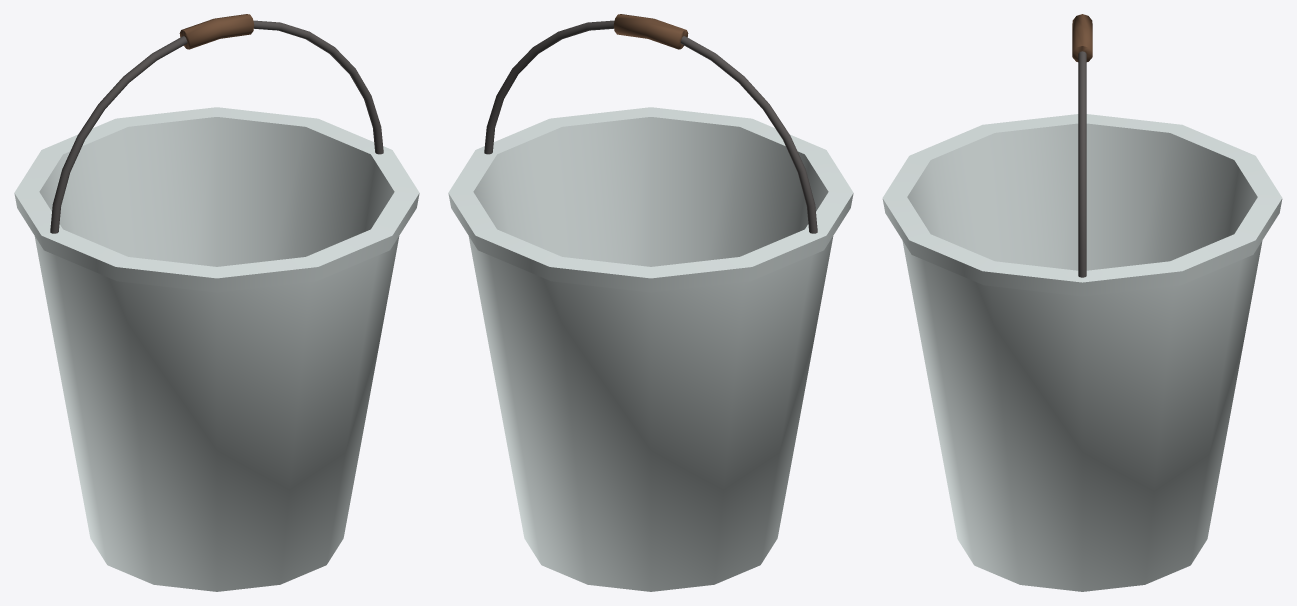
File: Bucket.glb
3 views of the same model, side by side, from view 1: azimuth 30°, elevation 25°; view 2: azimuth 150°, elevation 25°; view 3: azimuth 270°, elevation 25° (orthographic).
Visible parts, largest first — view 1: Bucket; view 2: Bucket; view 3: Bucket.
Part boxes in pixels (x1=…): Bucket: x1=14, y1=14, x2=419, y2=591; Bucket: x1=448, y1=14, x2=853, y2=591; Bucket: x1=882, y1=14, x2=1282, y2=591.
Bounding box in the file's own units: 0.3197 × 0.452 × 0.3197.
2 materials, 2 textured.
